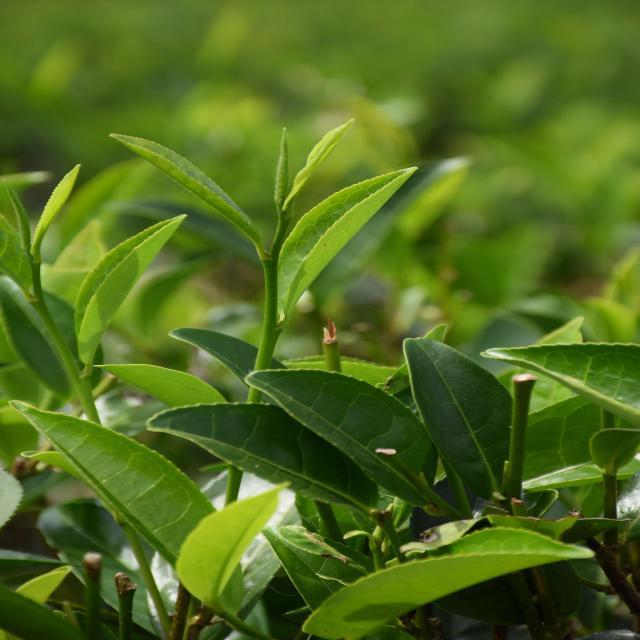Stem: (265, 259, 277, 280), (32, 296, 43, 307)
